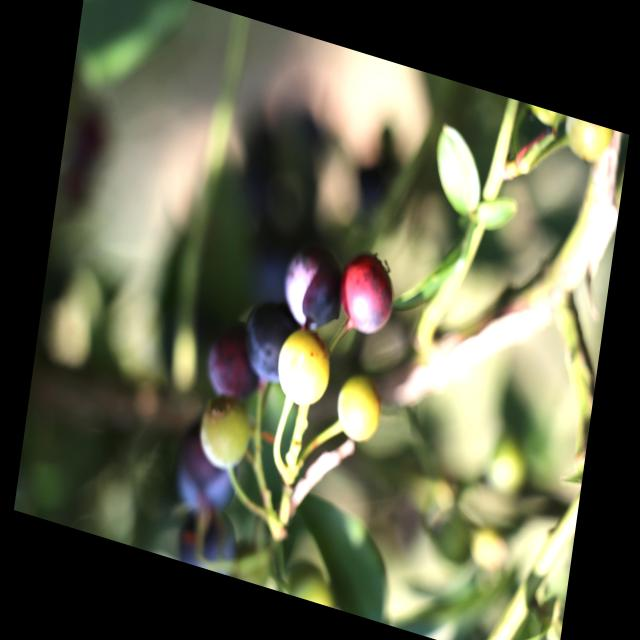blueberry: (276, 243, 344, 342), (203, 314, 265, 411), (172, 428, 237, 520), (239, 305, 301, 389)
blueberry-halfripe: (336, 245, 402, 344)
blueberry-unripe: (272, 327, 333, 412), (195, 396, 258, 476), (332, 368, 387, 450)
